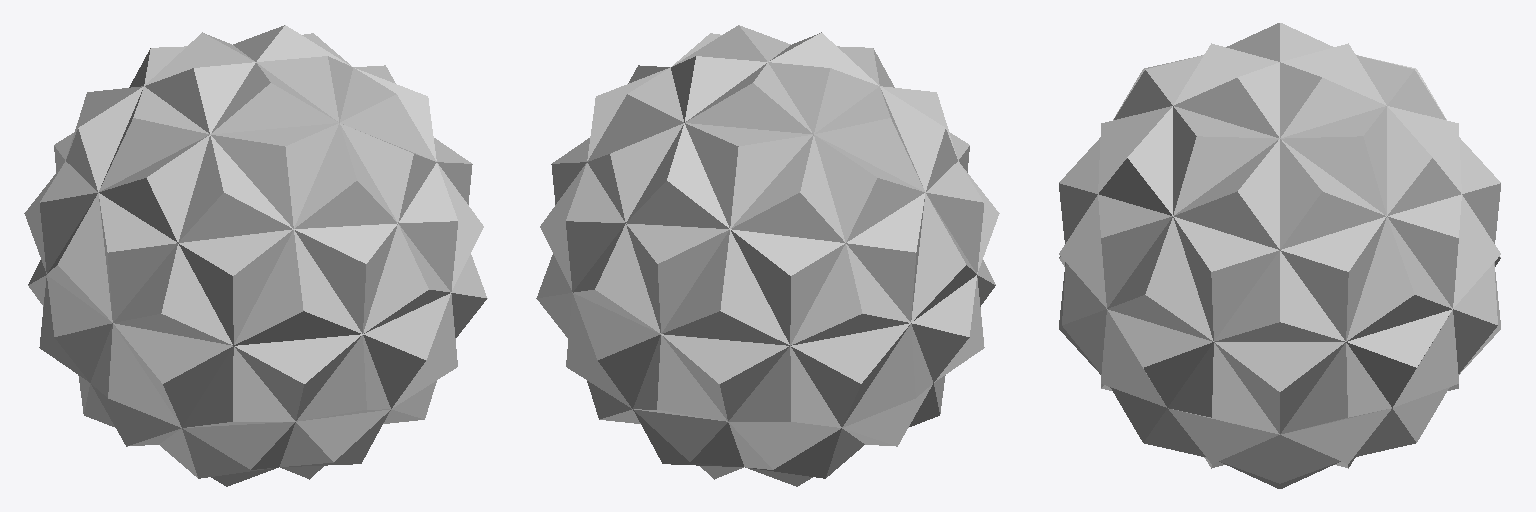
File: spiky_two.obj
The picture shows the model from 3 angles: view 1: azimuth 30°, elevation 25°; view 2: azimuth 150°, elevation 25°; view 3: azimuth 270°, elevation 25°; orthographic projection.
Visible parts, largest first — view 1: Icosphere; view 2: Icosphere; view 3: Icosphere.
Boxes of the visible parts, x1,y1,x2,y2 form: Icosphere: [24, 25, 487, 486]; Icosphere: [536, 25, 999, 486]; Icosphere: [1059, 23, 1500, 488].
Size of the model in its own units: 2.18 by 2.1 by 2.07.